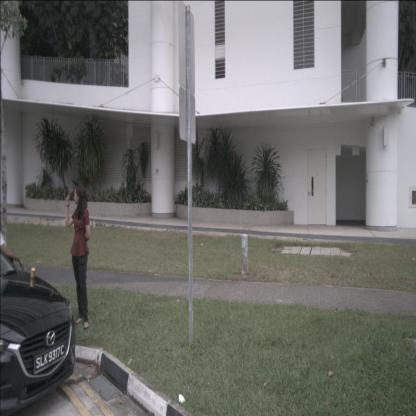human-pedestrian-adult: (65, 183, 90, 331)
vehicle-car: (0, 246, 76, 413)
